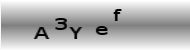3: (53, 16, 67, 31)
A: (31, 25, 51, 41)
Y: (68, 25, 82, 40)
e: (94, 24, 108, 36)
f: (112, 7, 122, 22)
